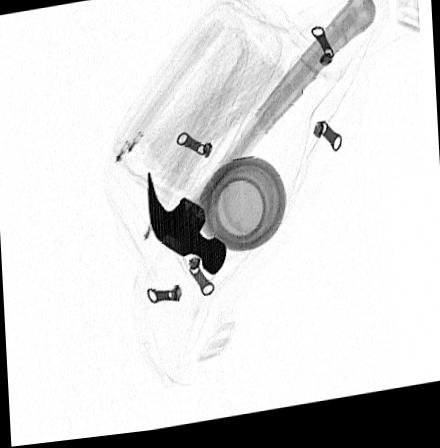Hammer: (146, 0, 376, 281)
